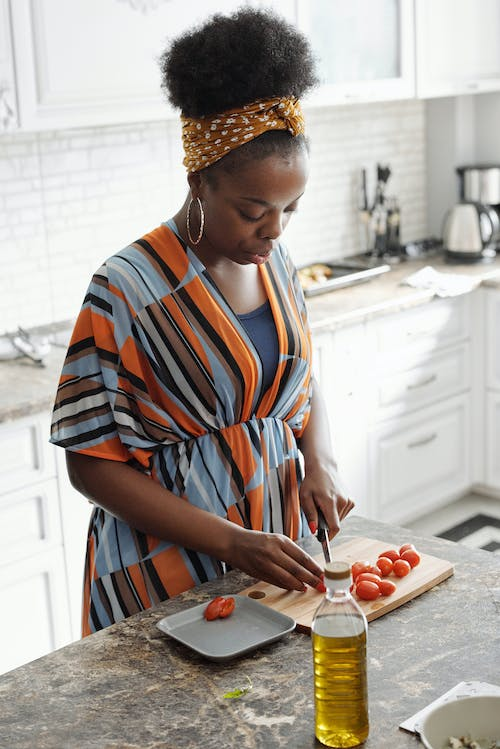knife: (312, 504, 336, 566)
